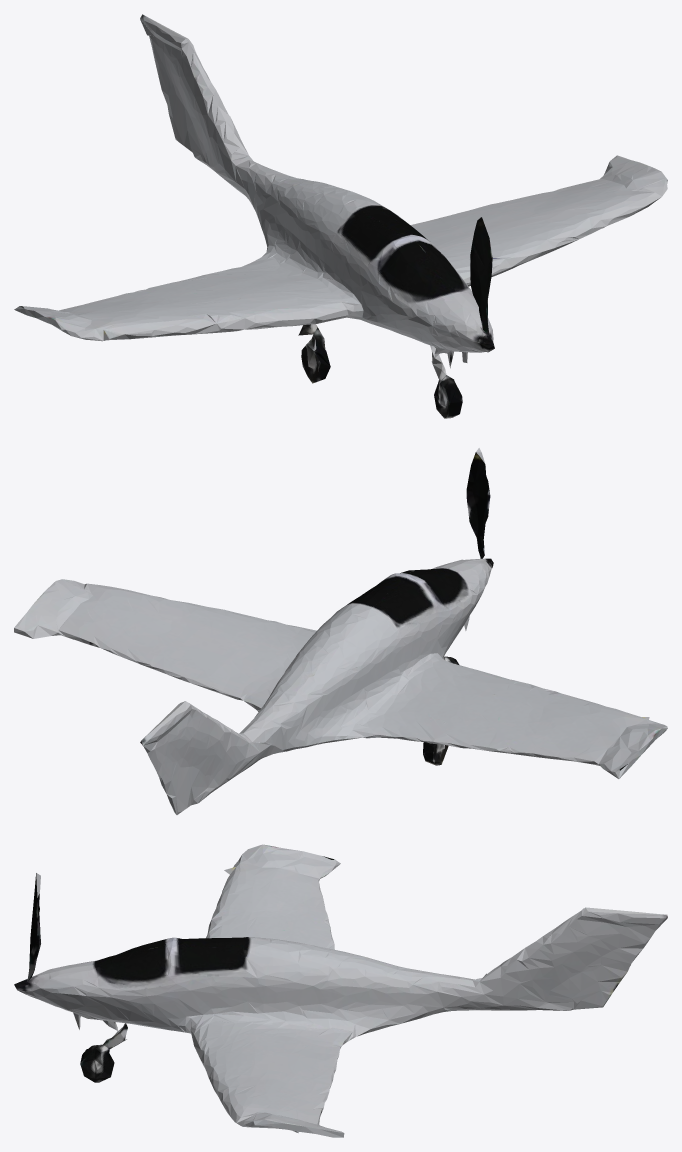
File: air_lancet.glb
The picture shows the model from 3 angles, top to bottom: view 1: azimuth 30°, elevation 25°; view 2: azimuth 150°, elevation 25°; view 3: azimuth 270°, elevation 25°; orthographic projection. The views are drawn at different scales.
Visible parts, largest first — view 1: air_lancet_tex; view 2: air_lancet_tex; view 3: air_lancet_tex.
Part boxes in pixels (bbox=[...]): air_lancet_tex: bbox=[14, 14, 667, 418]; air_lancet_tex: bbox=[14, 448, 667, 814]; air_lancet_tex: bbox=[14, 844, 667, 1137].
Bounding box in the file's own units: 1.5 × 0.533 × 1.5.
Materials: 1 (1 with a texture image).
